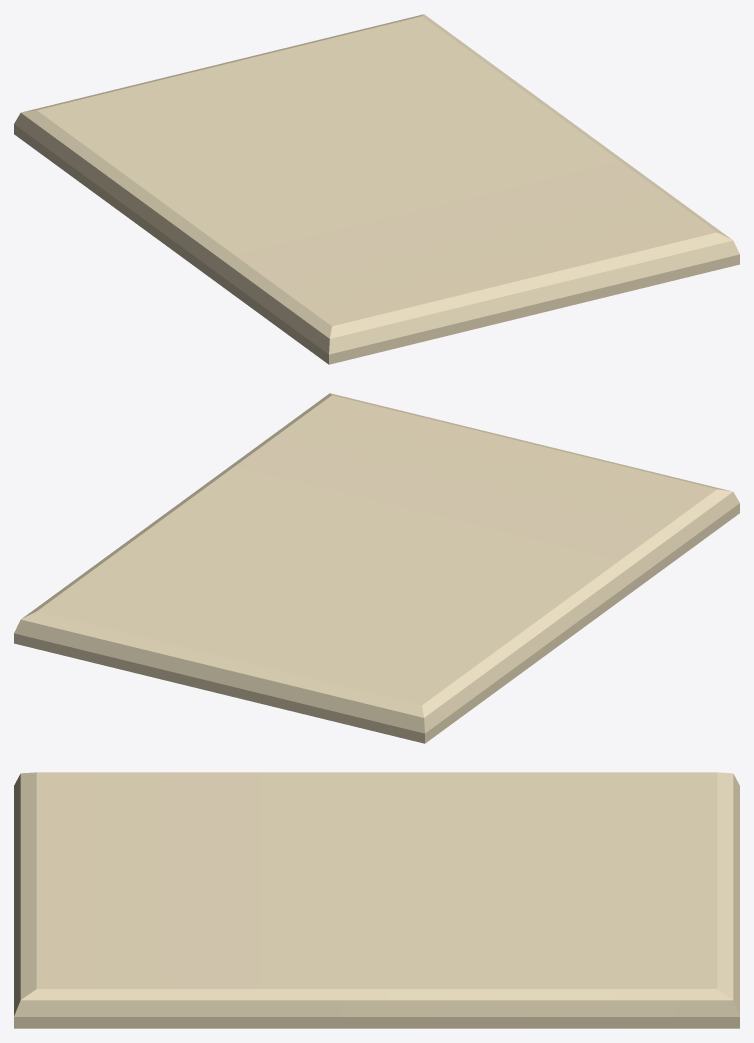
The model's file is chopping-board.glb.
The picture shows the model from 3 angles, top to bottom: view 1: azimuth 30°, elevation 25°; view 2: azimuth 150°, elevation 25°; view 3: azimuth 270°, elevation 25°; orthographic projection. The views are drawn at different scales.
Visible parts, largest first — view 1: ChoppingBoard.001; view 2: ChoppingBoard.001; view 3: ChoppingBoard.001.
Boxes of the visible parts, left/top/right/bottom form: ChoppingBoard.001: left=14, top=14, right=739, bottom=364; ChoppingBoard.001: left=14, top=393, right=739, bottom=743; ChoppingBoard.001: left=14, top=772, right=739, bottom=1028.
Bounding box in the file's own units: 0.3766 × 0.0246 × 0.5.
1 material, 1 textured.
